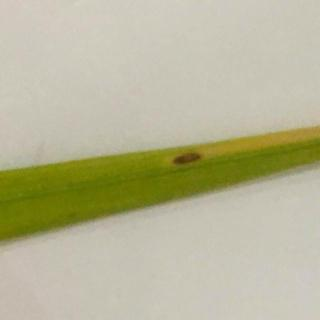Blast: (164, 142, 212, 192)
